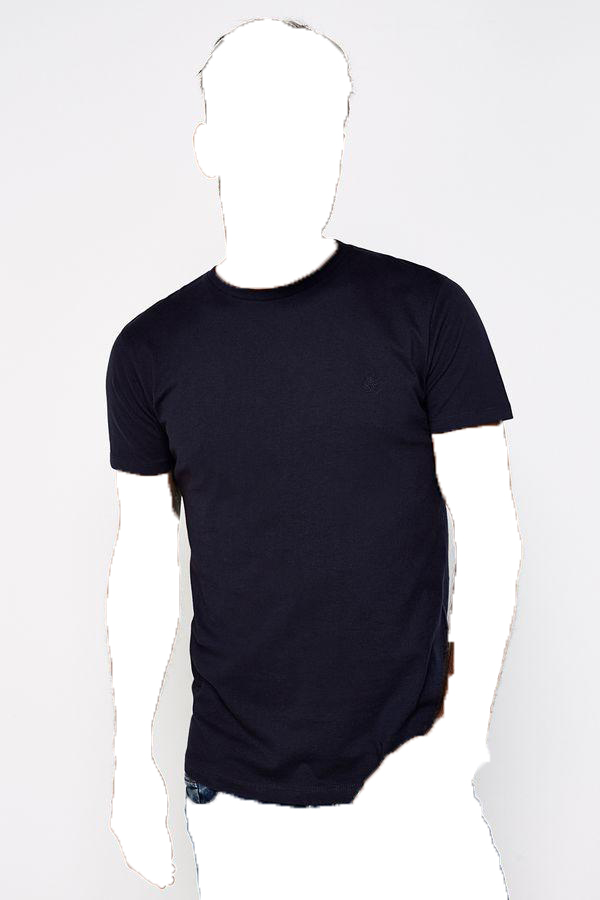teeshirt: (81, 238, 544, 817)
